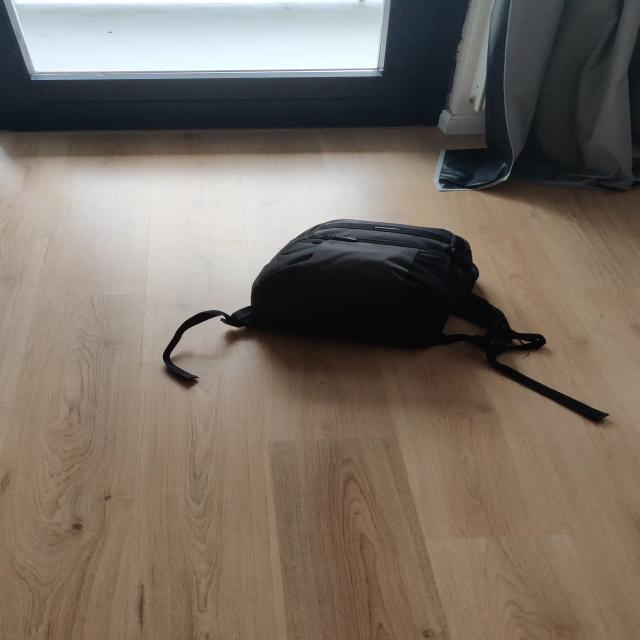backpack: (231, 215, 509, 352)
